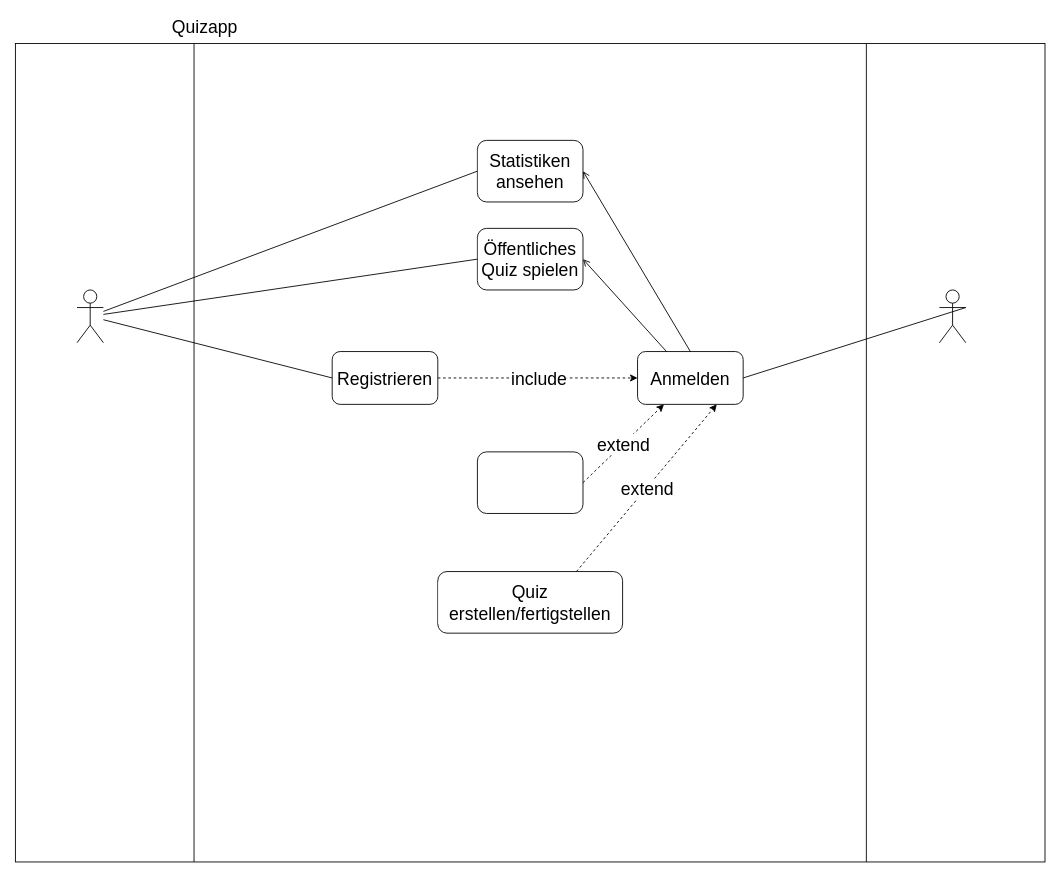
Image size: 1060x877. Some labels were removed from this diagram. Here are the shapes that lost their labels. From the top down, the centre of each, then its label:
At pixel 89 316: "User".
At pixel 952 316: "Registrierter User".
At pixel 530 482: "Eigenes Quiz spielen".
